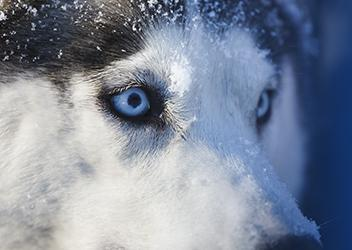husky: (1, 2, 340, 248)
